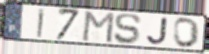7: (54, 7, 82, 42)
I: (36, 8, 47, 39)
J: (146, 16, 169, 46)
M: (80, 10, 116, 44)
O: (173, 17, 201, 49)
S: (113, 14, 142, 45)
